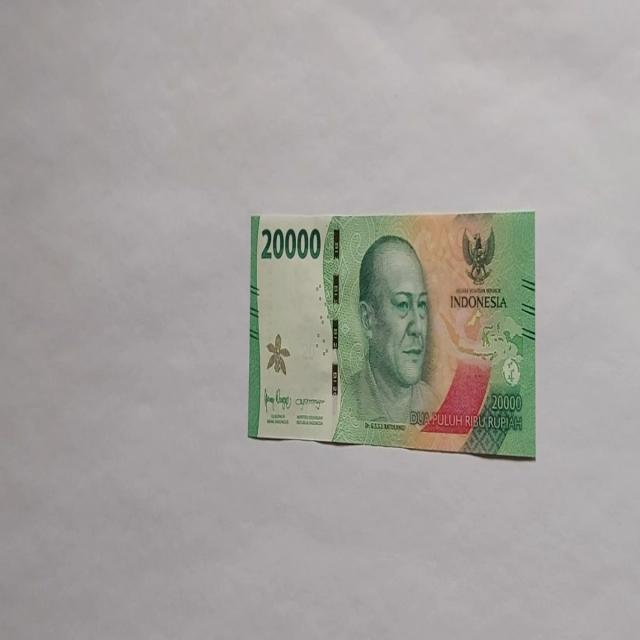dua puluh ribu rupiah: (248, 209, 536, 458), (345, 232, 442, 431)
